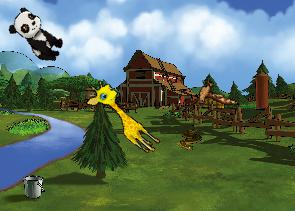eagle: (184, 71, 239, 119)
giraffe: (81, 76, 169, 157)
panda: (4, 4, 70, 67)
